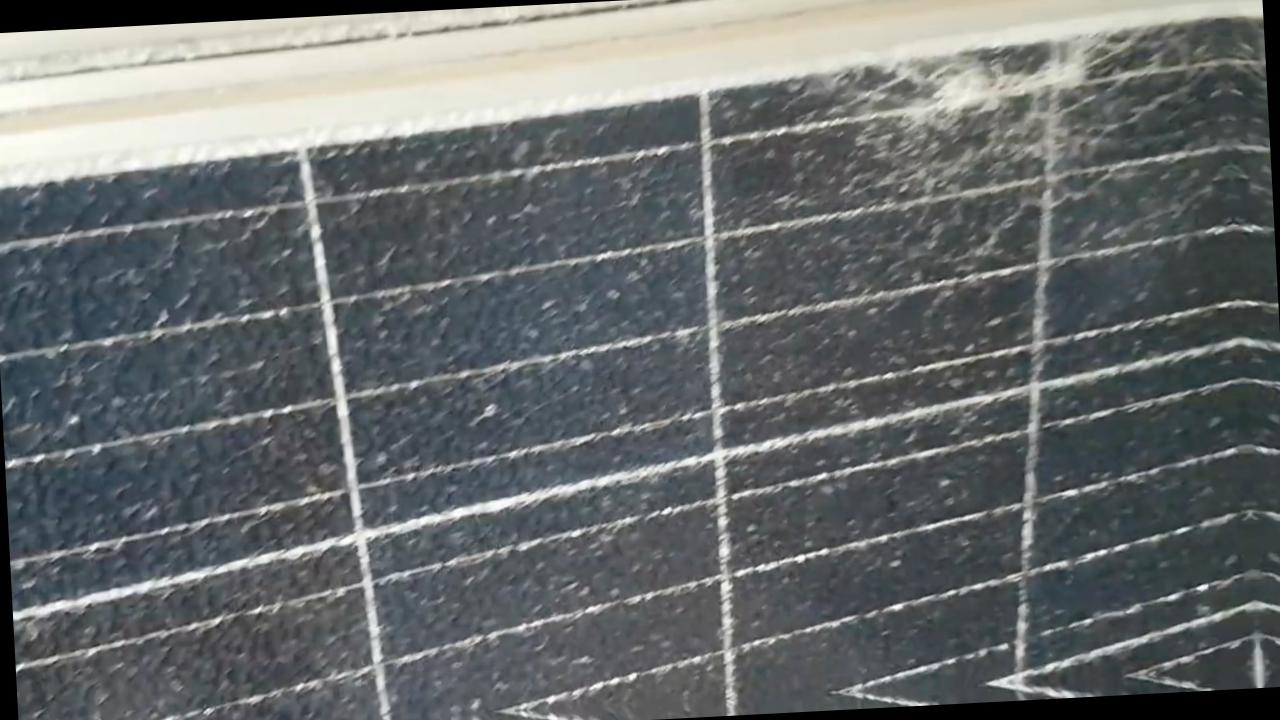Crack: (800, 40, 1196, 209)
